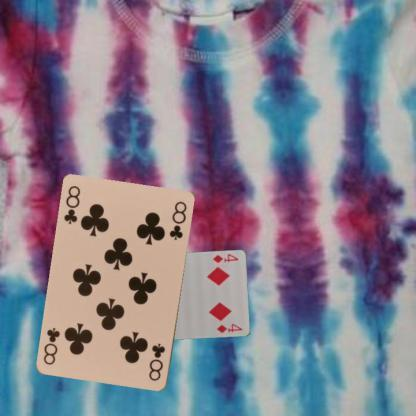4d: (210, 251, 239, 265)
8c: (61, 183, 82, 226), (146, 340, 167, 382)
